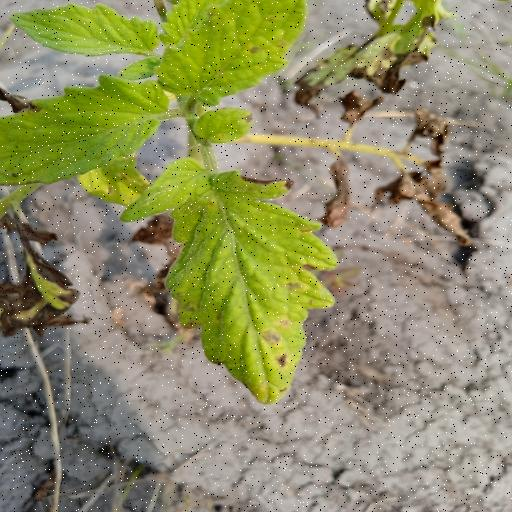Tomato_Brown_Spots: (120, 160, 341, 404), (0, 75, 175, 188), (154, 0, 309, 107)
